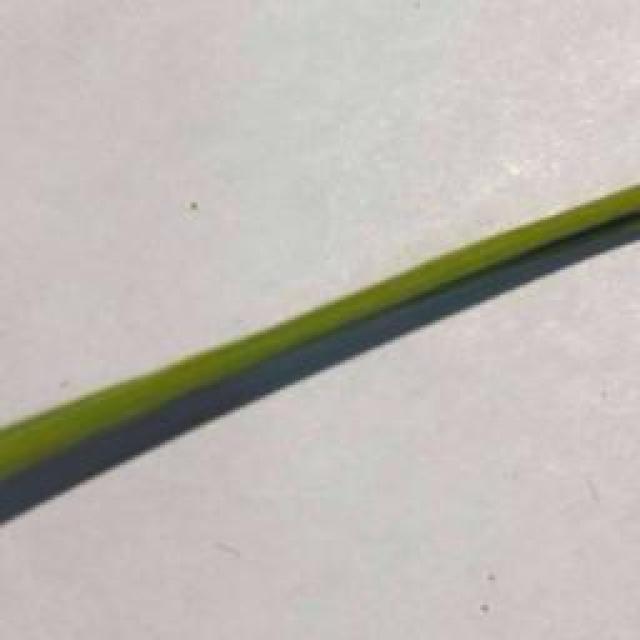Healthy-Plant: (0, 182, 640, 496)
